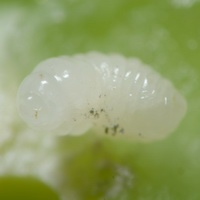insect: (17, 52, 185, 140)
